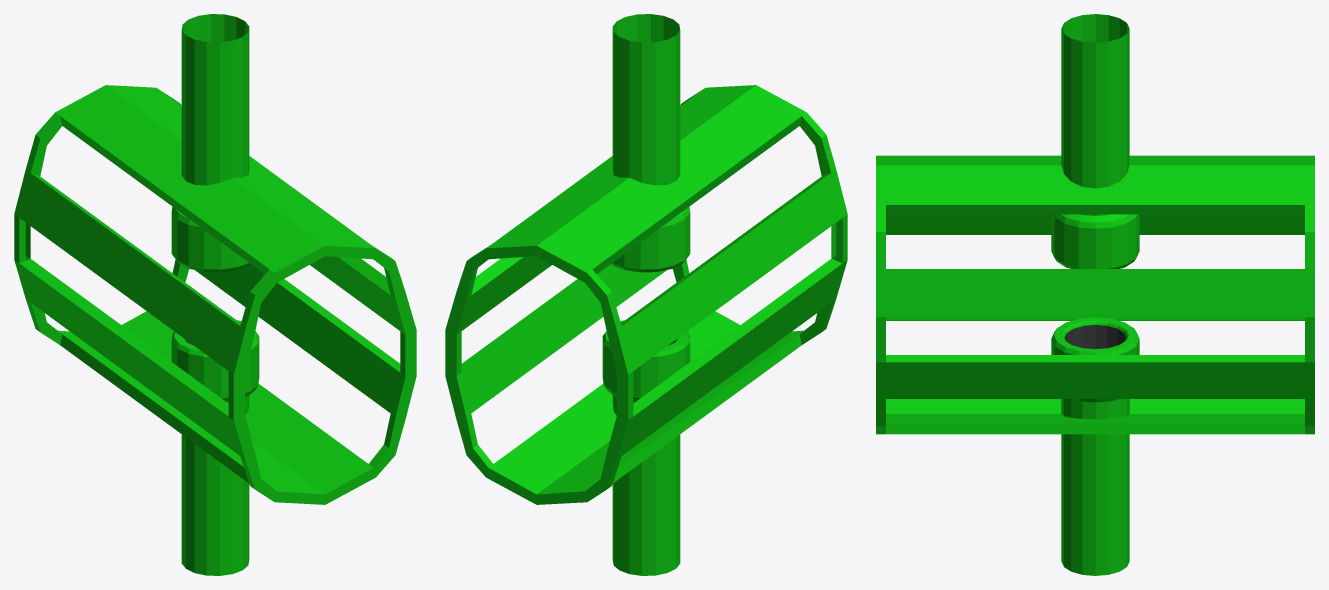
Rendered from Bird_Cage.fbx.
3 renders of one model, left to right at view 1: azimuth 30°, elevation 25°; view 2: azimuth 150°, elevation 25°; view 3: azimuth 270°, elevation 25°, orthographic.
Visible parts, largest first — view 1: Cylinder.002, Cylinder.001, Cylinder; view 2: Cylinder.002, Cylinder.001, Cylinder; view 3: Cylinder.002, Cylinder.001, Cylinder.
Part boxes in pixels (left/top/right/bottom): Cylinder.002: left=14, top=85, right=416, bottom=504; Cylinder.001: left=171, top=14, right=250, bottom=272; Cylinder: left=171, top=320, right=259, bottom=575; Cylinder.002: left=445, top=85, right=847, bottom=504; Cylinder.001: left=611, top=14, right=690, bottom=272; Cylinder: left=602, top=320, right=690, bottom=575; Cylinder.002: left=876, top=155, right=1314, bottom=434; Cylinder.001: left=1051, top=14, right=1139, bottom=268; Cylinder: left=1051, top=317, right=1139, bottom=575.
Bounding box in the file's own units: 1240 × 3456 × 2578.
